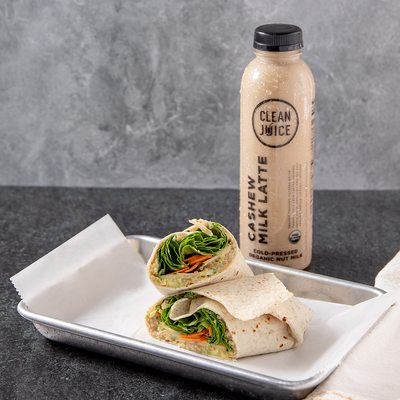soup: (145, 273, 313, 361), (146, 218, 254, 297)
